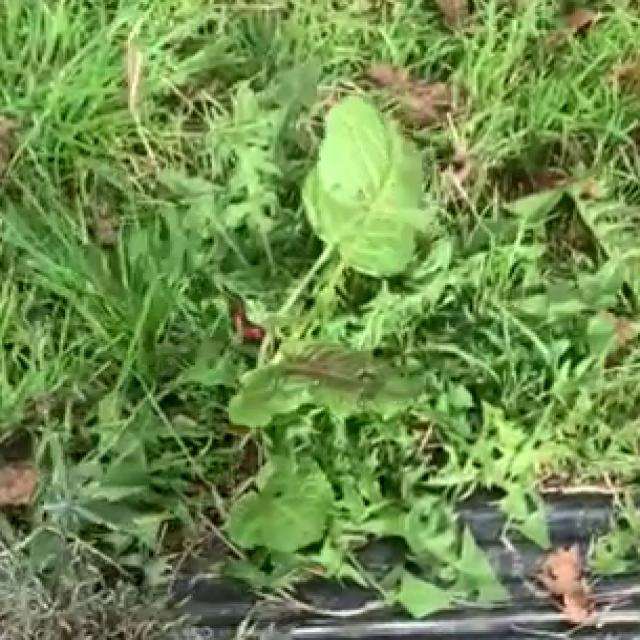organic waste: (189, 78, 548, 570)
